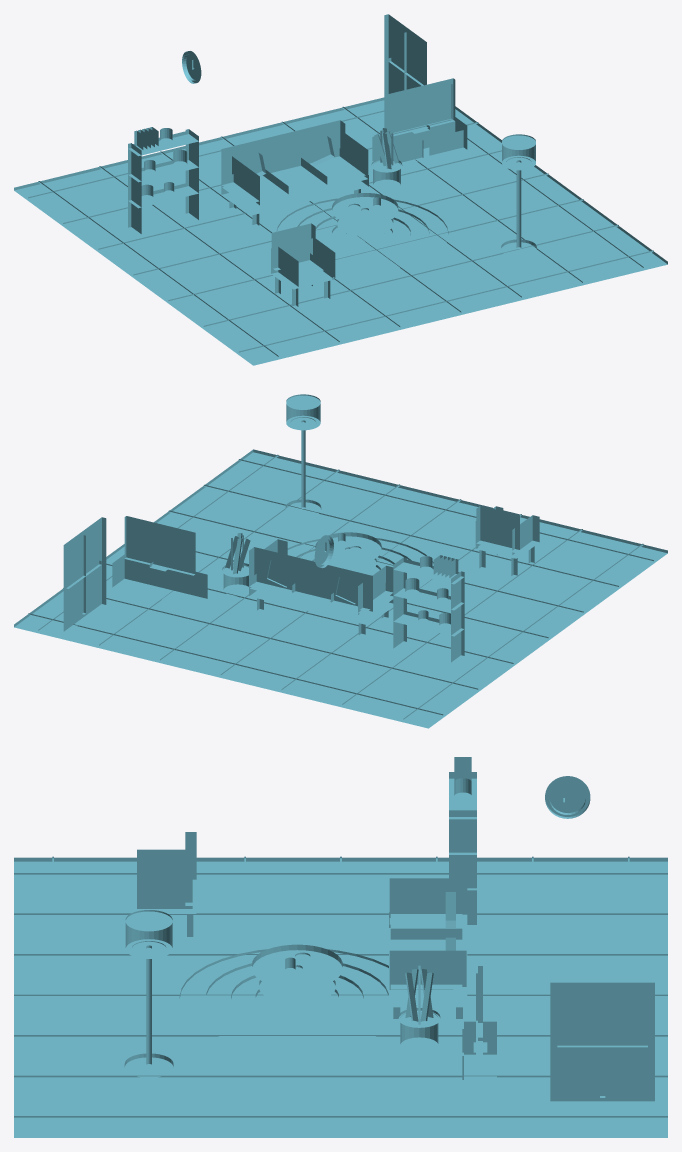
The model's file is livingroom.glb.
3 views of the same model, one above another, from view 1: azimuth 30°, elevation 25°; view 2: azimuth 150°, elevation 25°; view 3: azimuth 270°, elevation 25° (orthographic). The views are drawn at different scales.
Parts seen in each view (by area): view 1: FloorMat, Sofa, Rug, TvStand, Shelf, Armchair, Window, CoffeeTable, FloorLamp, Plant; view 2: FloorMat, Sofa, TvStand, Shelf, Window, Armchair, FloorLamp, CoffeeTable, Rug, Plant, WallClock; view 3: FloorMat, Rug, Window, Sofa, CoffeeTable, Armchair, FloorLamp, Shelf, TvStand, Plant, WallClock.
Boxes of the visible parts, x1=… form: FloorMat: x1=14, y1=97, x2=667, y2=365; Sofa: x1=221, y1=120, x2=368, y2=226; Rug: x1=276, y1=198, x2=448, y2=271; TvStand: x1=372, y1=78, x2=467, y2=165; Shelf: x1=128, y1=127, x2=198, y2=234; Armchair: x1=271, y1=223, x2=335, y2=307; Window: x1=384, y1=14, x2=426, y2=94; CoffeeTable: x1=332, y1=193, x2=398, y2=241; FloorLamp: x1=501, y1=134, x2=536, y2=257; Plant: x1=371, y1=128, x2=402, y2=191; FloorMat: x1=14, y1=449, x2=667, y2=728; Sofa: x1=249, y1=539, x2=393, y2=636; TvStand: x1=112, y1=516, x2=207, y2=607; Shelf: x1=393, y1=555, x2=464, y2=663; Window: x1=63, y1=517, x2=106, y2=632; Armchair: x1=475, y1=506, x2=539, y2=576; FloorLamp: x1=285, y1=394, x2=321, y2=517; CoffeeTable: x1=315, y1=532, x2=381, y2=574; Rug: x1=287, y1=538, x2=436, y2=601; Plant: x1=222, y1=533, x2=250, y2=596; WallClock: x1=314, y1=535, x2=333, y2=568; FloorMat: x1=14, y1=856, x2=667, y2=1137; Rug: x1=179, y1=949, x2=406, y2=1049; Window: x1=550, y1=982, x2=654, y2=1103; Sofa: x1=389, y1=865, x2=467, y2=1021; CoffeeTable: x1=252, y1=944, x2=342, y2=1011; Armchair: x1=137, y1=832, x2=196, y2=939; FloorLamp: x1=124, y1=910, x2=173, y2=1077; Shelf: x1=449, y1=757, x2=476, y2=927; TvStand: x1=462, y1=966, x2=496, y2=1109; Plant: x1=398, y1=965, x2=440, y2=1053; WallClock: x1=545, y1=776, x2=590, y2=818.
Bounding box in the file's own units: 7.5 × 2.26 × 7.5.
